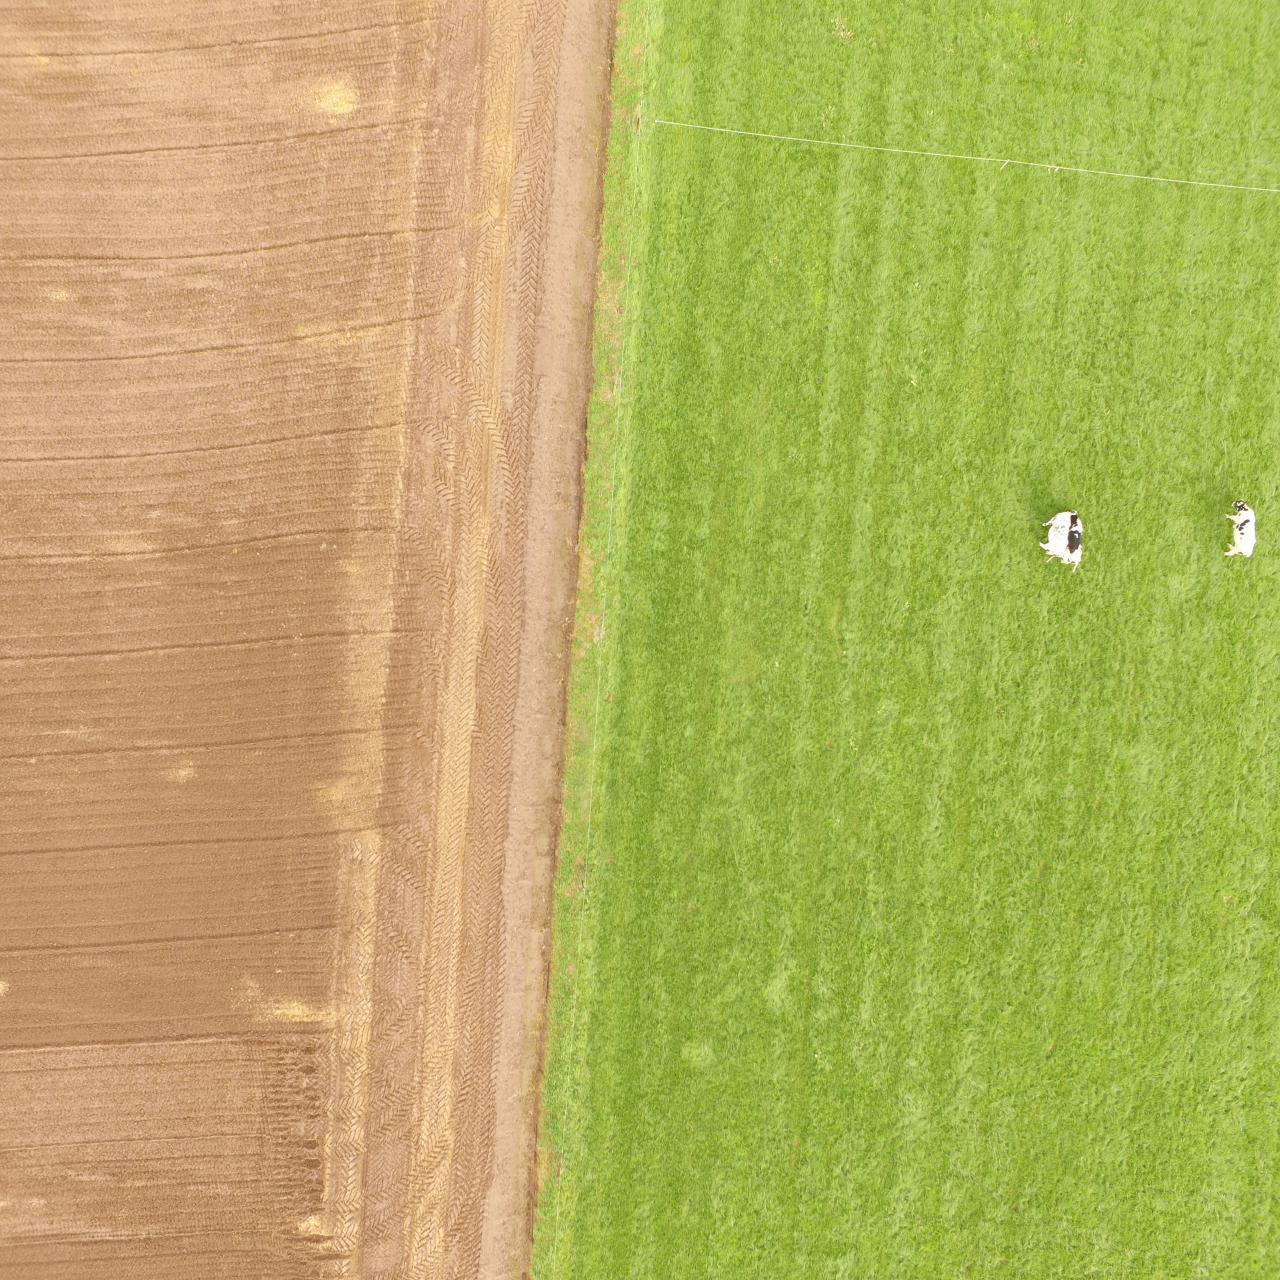cow: (1036, 505, 1087, 574), (1219, 496, 1259, 565)
